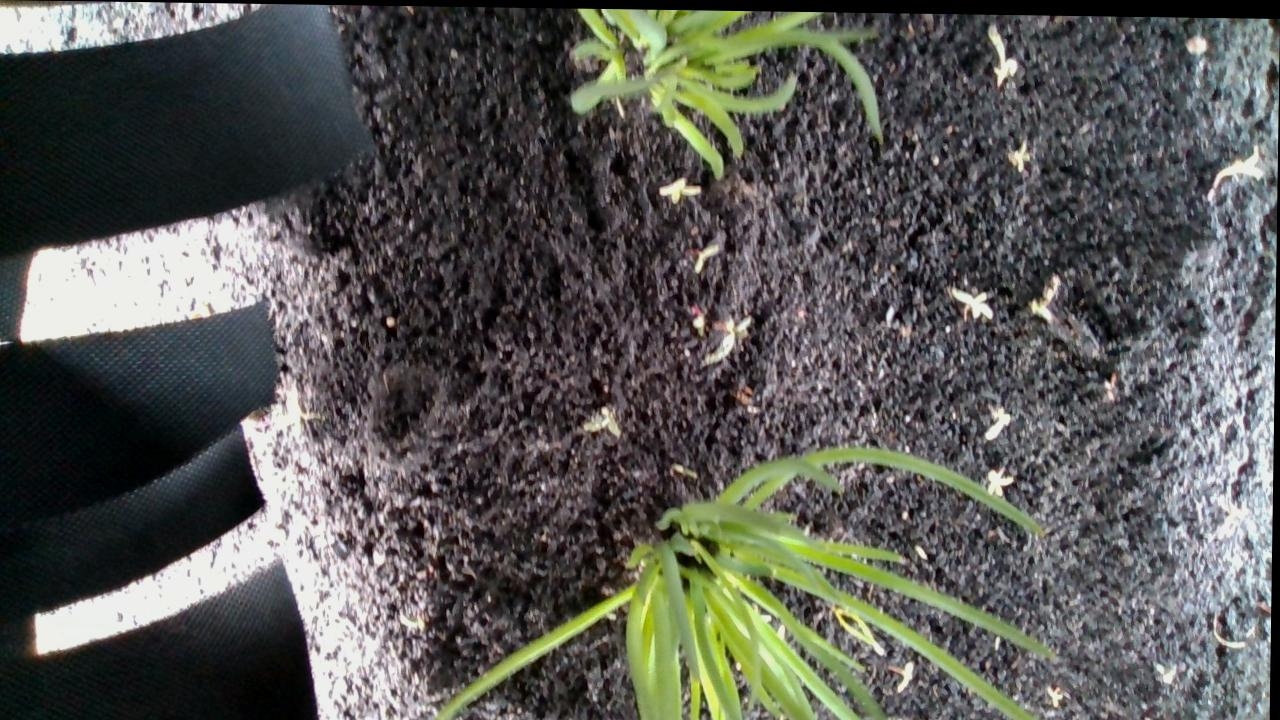weed: (949, 280, 998, 324), (658, 167, 702, 205), (1008, 134, 1033, 172), (689, 236, 714, 272)
